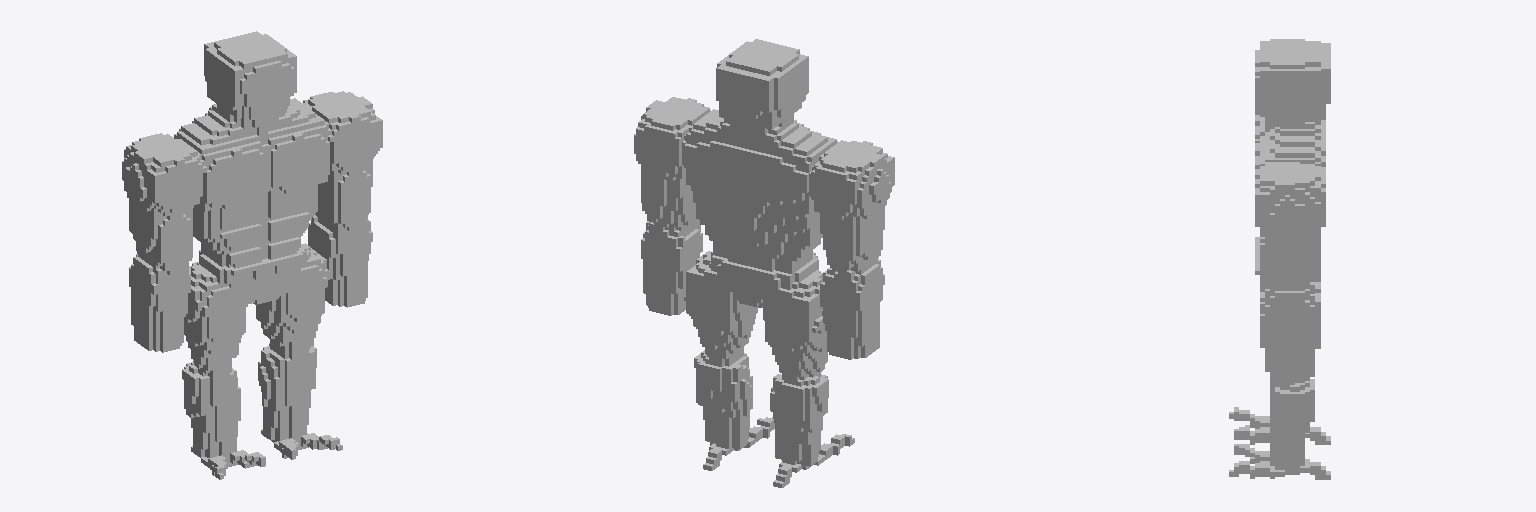
The model's file is bug 2.obj.
The picture shows the model from 3 angles: view 1: azimuth 30°, elevation 25°; view 2: azimuth 150°, elevation 25°; view 3: azimuth 270°, elevation 25°; orthographic projection.
Parts seen in each view (by area): view 1: object 1; view 2: object 1; view 3: object 1.
Boxes of the visible parts, x1=… form: object 1: x1=122, y1=31, x2=382, y2=479; object 1: x1=634, y1=39, x2=894, y2=487; object 1: x1=1229, y1=39, x2=1330, y2=479.
Size of the model in its own units: 5.4 by 8.9 by 2.